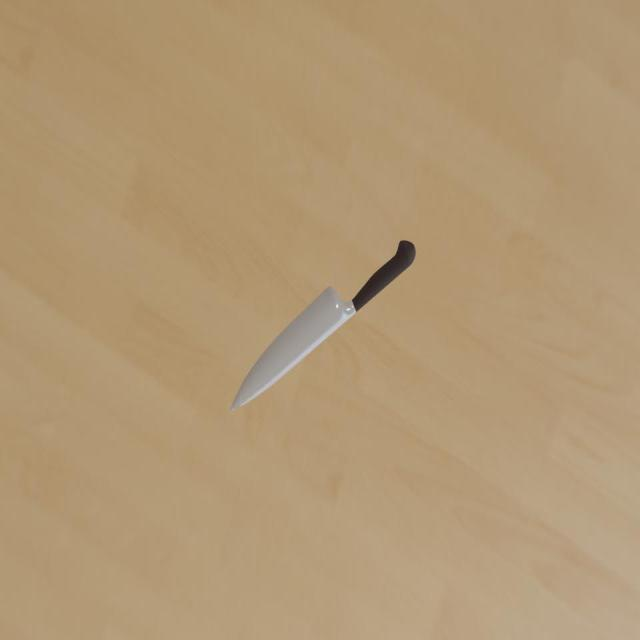knife: (350, 240, 416, 312)
